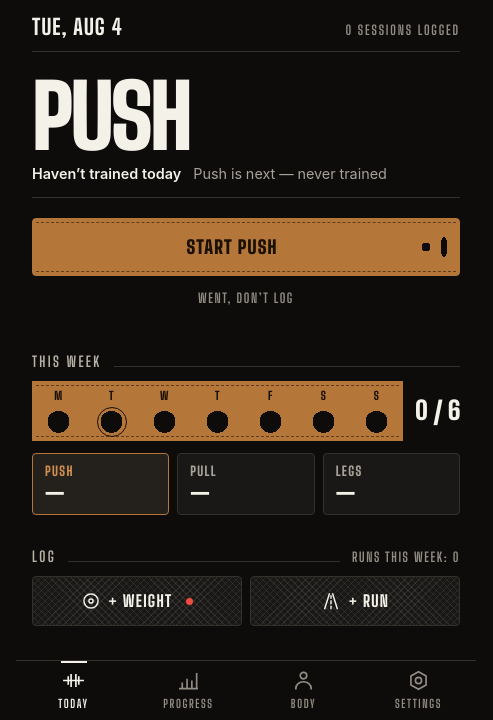
it: logging a workout › starts the rest timer when a set is marked done
Click the button "Start Push" at (246, 247), box [32,218,460,276]
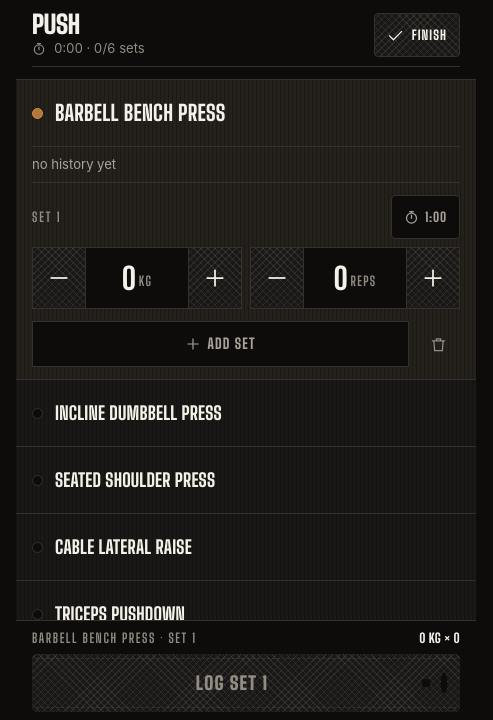
Now the text "Barbell Bench Press" is shown, box [55,100,226,126]
Click the button with aria-label "Barbell Bench Press set 1 weight" at (137, 278), box [86,247,188,309]
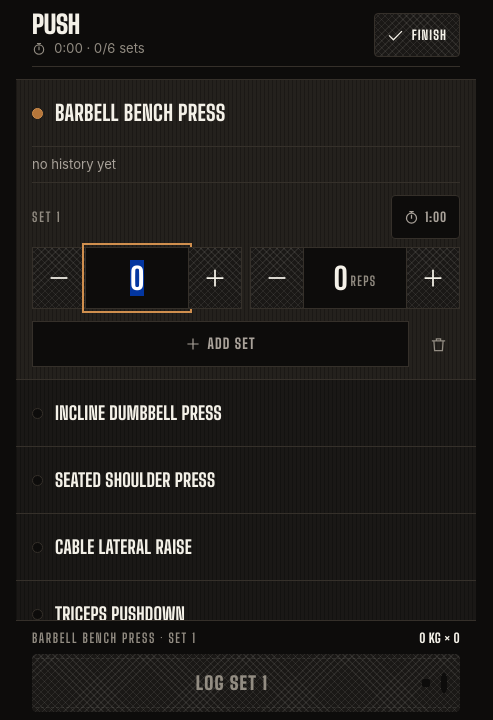
Type "80" into the field named "Barbell Bench Press set 1 weight" at (137, 278), box [86,247,188,309]
Then press Enter
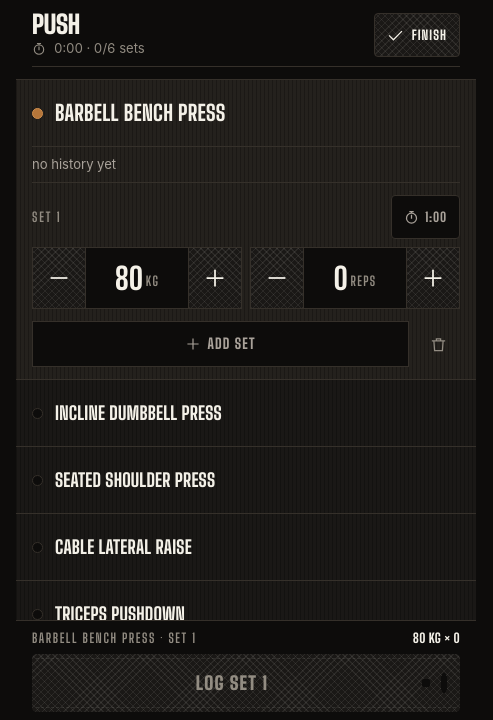
Click the button with aria-label "Barbell Bench Press set 1 reps" at (355, 278), box [304,247,406,309]
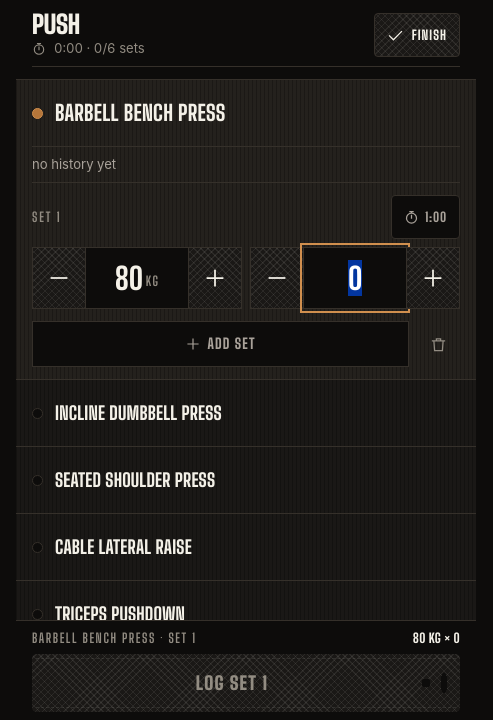
Type "8" into the field named "Barbell Bench Press set 1 reps" at (355, 278), box [304,247,406,309]
Then press Enter
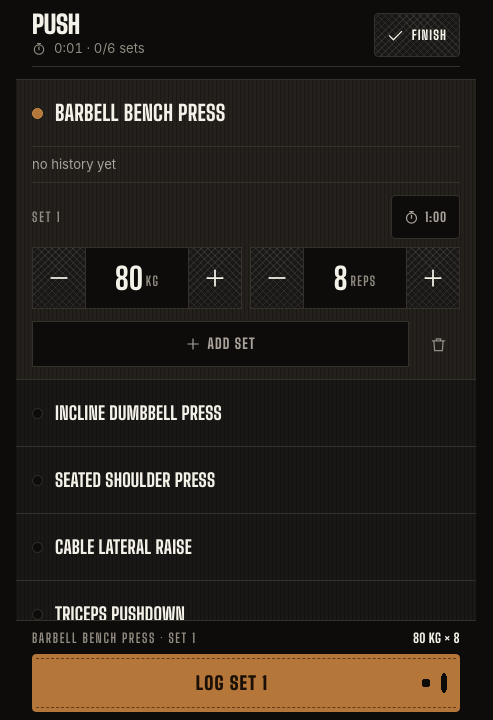
Expected: the button "Skip" is not shown
Click the button with aria-label "mark Barbell Bench Press set 1 done" at (246, 683), box [32,654,460,712]
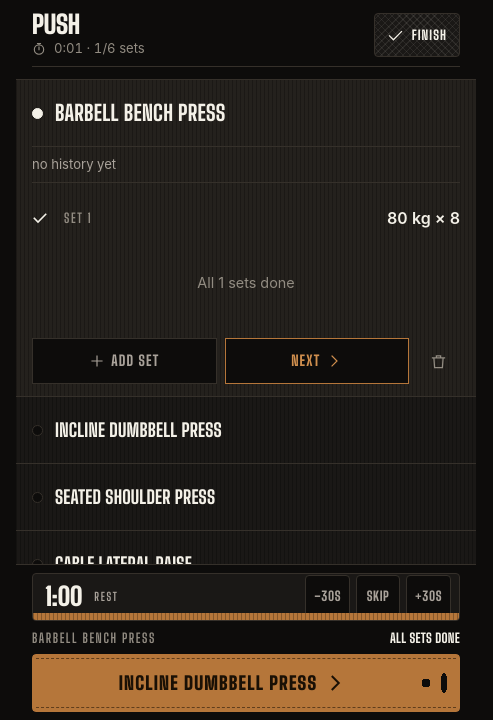
Now the element named "rest remaining" reads "1:00 Rest −30s Skip +30s", box [45,581,82,611]
Now the button "+30s" is shown, box [406,575,451,619]
